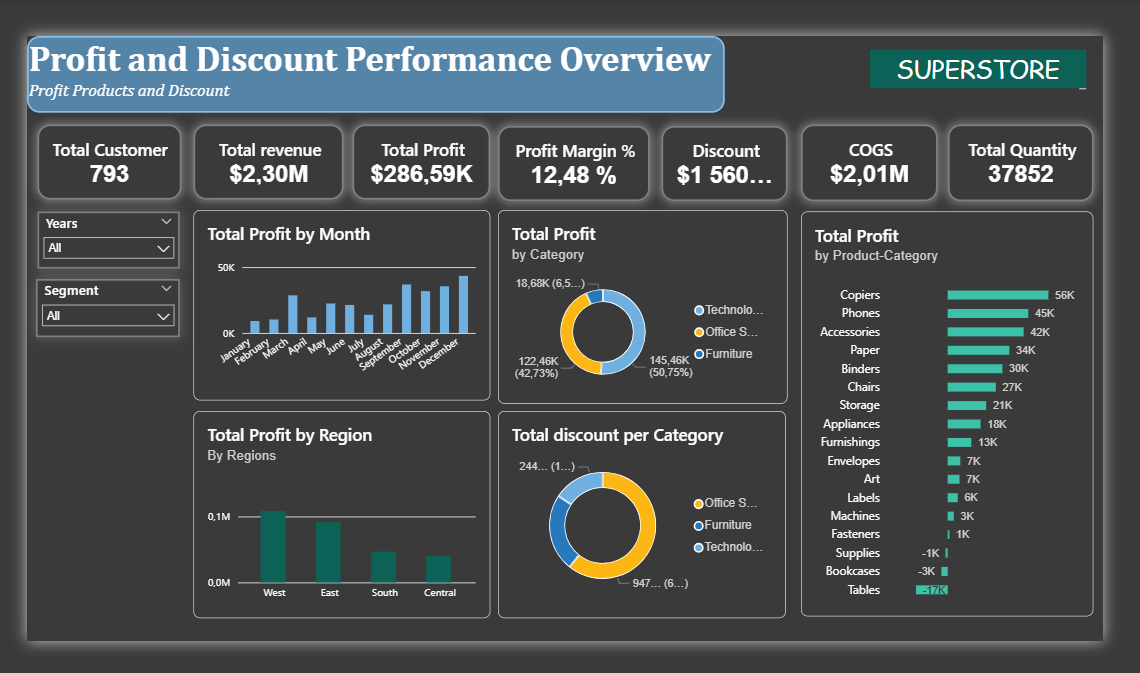

The page's visual inventory and layout, read from the dashboard file:
{"tool":"powerbi","page":{"name":"Profit & Discount","canvas":[1280,720],"ordinal":1},"visuals":[{"type":"textbox","title":"Profit and Discount Performance Overview","box":[0,0,830.4,91.1],"z":0},{"type":"clusteredColumnChart","title":"Total Profit by Month","fields":{"Category":["Sample - Superstore - Sample - Superstore csv (3).Order Date.Variation.Date Hierarchy.Month"],"Y":["Sum(Superstore.Profit)"]},"box":[198.2,207.1,353.6,226.8],"z":4000},{"type":"donutChart","title":"Total Profit","fields":{"Category":["Sample - Superstore - Sample - Superstore csv (3).Category"],"Y":["Sum(Superstore.Profit)"]},"box":[560.7,207.1,344.6,230.4],"z":9000},{"type":"clusteredBarChart","title":"Total Profit","fields":{"Category":["Superstore.Sub-Category"],"Y":["Sum(Superstore.Profit)"]},"box":[921.4,208.9,348.2,482.1],"z":10000},{"type":"donutChart","title":"Total discount per Category","fields":{"Y":["Sum(Superstore.Discount)"],"Category":["Superstore.Category"]},"box":[560.7,446.4,342.9,246.4],"z":11000},{"type":"columnChart","title":"Total Profit by Region  ","fields":{"Category":["Superstore.Region"],"Y":["Sum(Superstore.Profit)"]},"box":[198.2,446.4,353.6,246.4],"z":12000},{"type":"textbox","title":"SUPERSTORE","box":[1003.9,16.3,257.1,47.2],"z":14000},{"type":"card","title":"Total revenue","fields":{"Values":["Sum(Sample - Superstore - Sample - Superstore csv (3).Sales)"]},"box":[198.2,105.4,178.6,89.3],"z":14001},{"type":"card","title":"Total Profit","fields":{"Values":["Sum(Sample - Superstore - Sample - Superstore csv (3).Profit)"]},"box":[387.5,105.4,164.3,89.3],"z":14002},{"type":"card","title":"Profit Margin %","fields":{"Values":["Superstore.total profit margin"]},"box":[560.7,107.1,180.4,89.3],"z":14003},{"type":"card","title":"Total Quantity","fields":{"Values":["Sum(Sample - Superstore - Sample - Superstore csv (3).Quantity)"]},"box":[1096.4,105.4,173.2,91.1],"z":14004},{"type":"card","title":" Discount","fields":{"Values":["Sum(Sample - Superstore - Sample - Superstore csv (3).Discount)"]},"box":[755.4,107.1,150,89.3],"z":14005},{"type":"card","title":"COGS","fields":{"Values":["Sum(Superstore.Cost of goods sold)"]},"box":[921.4,105.4,162.5,91.1],"z":14006},{"type":"card","title":"Total Customer","fields":{"Values":["Count(Superstore.Customer Name)"]},"box":[12.5,105.4,171.4,89.3],"z":14007},{"type":"slicer","fields":{"Values":["Sample - Superstore - Sample - Superstore csv (3).Segment"]},"box":[10.7,289.3,171.4,69.6],"z":14008},{"type":"slicer","fields":{"Values":["Sample - Superstore - Sample - Superstore csv (3).Order Year"]},"box":[12.5,208.9,169.6,67.9],"z":14009}]}

Visuals, with their boxes on the page's 1280x720 design canvas (x1, y1, x2, y2). These are canvas units, not pixel positions in the 1140x673 screenshot, which may show the page scaled, cropped or inside an application window:
"Profit and Discount Performance Overview" textbox: locate(0, 0, 830, 91)
"Total Profit by Month" clusteredColumnChart: locate(198, 207, 552, 434)
"Total Profit" donutChart: locate(561, 207, 905, 438)
"Total Profit" clusteredBarChart: locate(921, 209, 1270, 691)
"Total discount per Category" donutChart: locate(561, 446, 904, 693)
"Total Profit by Region  " columnChart: locate(198, 446, 552, 693)
"SUPERSTORE" textbox: locate(1004, 16, 1261, 64)
"Total revenue" card: locate(198, 105, 377, 195)
"Total Profit" card: locate(388, 105, 552, 195)
"Profit Margin %" card: locate(561, 107, 741, 196)
"Total Quantity" card: locate(1096, 105, 1270, 196)
" Discount" card: locate(755, 107, 905, 196)
"COGS" card: locate(921, 105, 1084, 196)
"Total Customer" card: locate(12, 105, 184, 195)
slicer - Sample - Superstore - Sample - Superstore csv (3).Segment: locate(11, 289, 182, 359)
slicer - Sample - Superstore - Sample - Superstore csv (3).Order Year: locate(12, 209, 182, 277)
